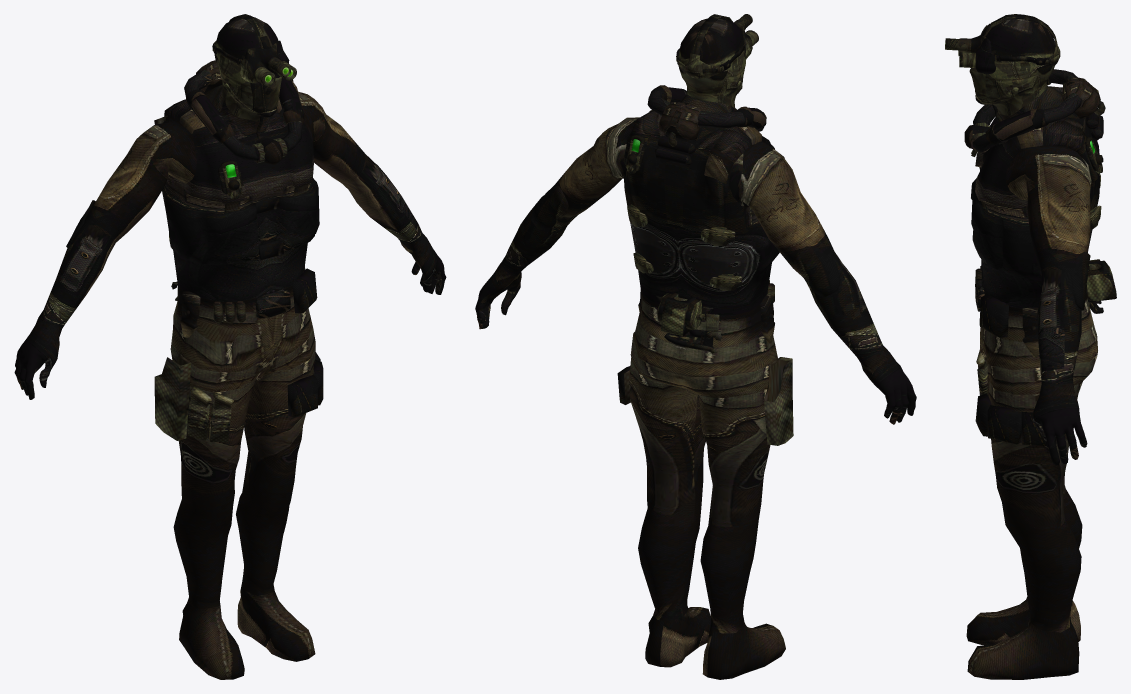
File: sam.obj
The picture shows the model from 3 angles, left to right: view 1: azimuth 30°, elevation 25°; view 2: azimuth 150°, elevation 25°; view 3: azimuth 270°, elevation 25°; orthographic projection.
Parts seen in each view (by area): view 1: body; view 2: body; view 3: body.
Part boxes in pixels (x1=…): body: x1=14, y1=14, x2=446, y2=679; body: x1=475, y1=14, x2=916, y2=679; body: x1=945, y1=14, x2=1116, y2=679.
Bounding box in the file's own units: 54.53 × 77.43 × 18.8.
